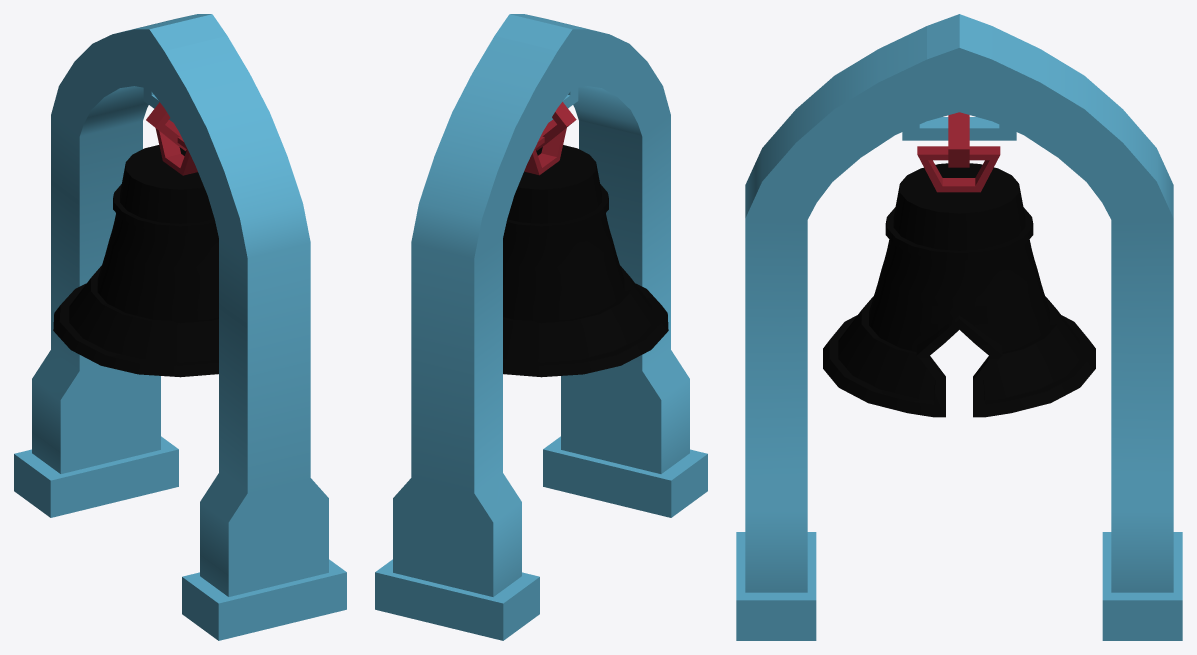
Rendered from SM_bell.fbx.
3 renders of one model, left to right at view 1: azimuth 30°, elevation 25°; view 2: azimuth 150°, elevation 25°; view 3: azimuth 270°, elevation 25°, orthographic. The views are drawn at different scales.
Visible parts, largest first — view 1: Box002, Box005; view 2: Box002, Box005; view 3: Box002, Box005.
Part boxes in pixels (left/top/right/bottom): Box002: left=14, top=14, right=346, bottom=640; Box005: left=53, top=102, right=218, bottom=377; Box002: left=375, top=14, right=707, bottom=640; Box005: left=503, top=102, right=668, bottom=377; Box002: left=736, top=14, right=1182, bottom=640; Box005: left=823, top=112, right=1095, bottom=417.
Size of the model in its own units: 268 by 617 by 433.
